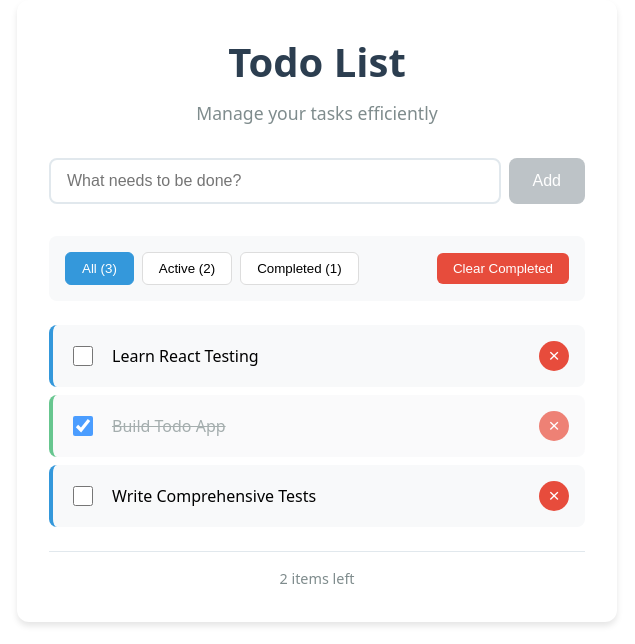
TodoList Component › deletes a todo
Click the button with test id "delete-button-1": (554, 356) [539,341,569,371]
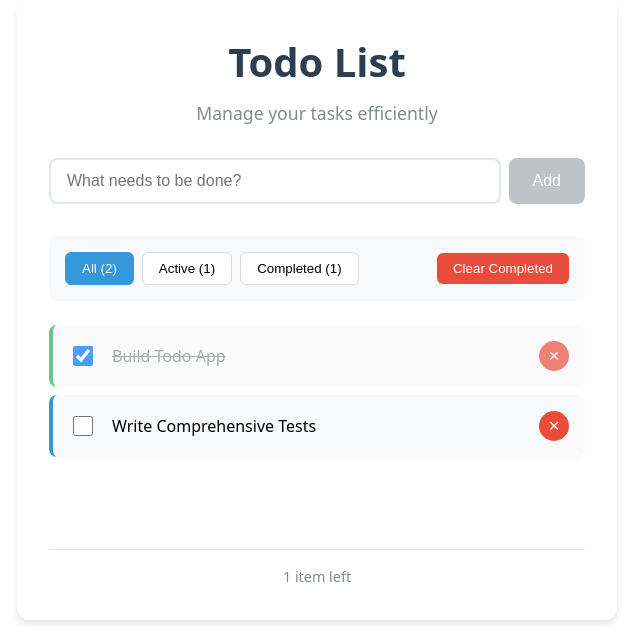
Now the number of list items is 2, box [49,325,585,387]; [49,395,585,457]
Now the text "Learn React Testing" is gone
